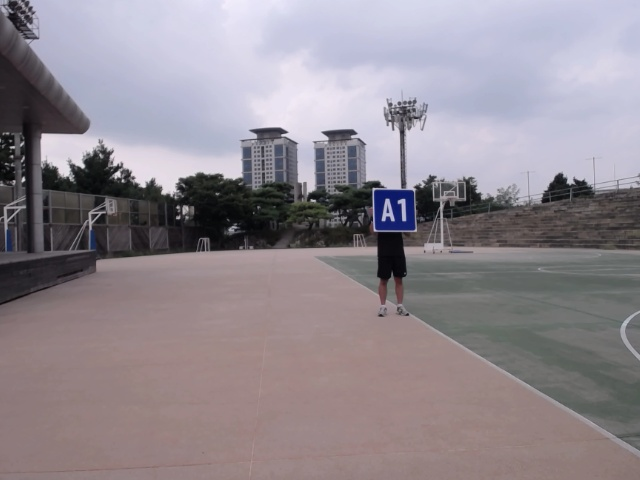delivery_a1: (373, 189, 416, 231)
